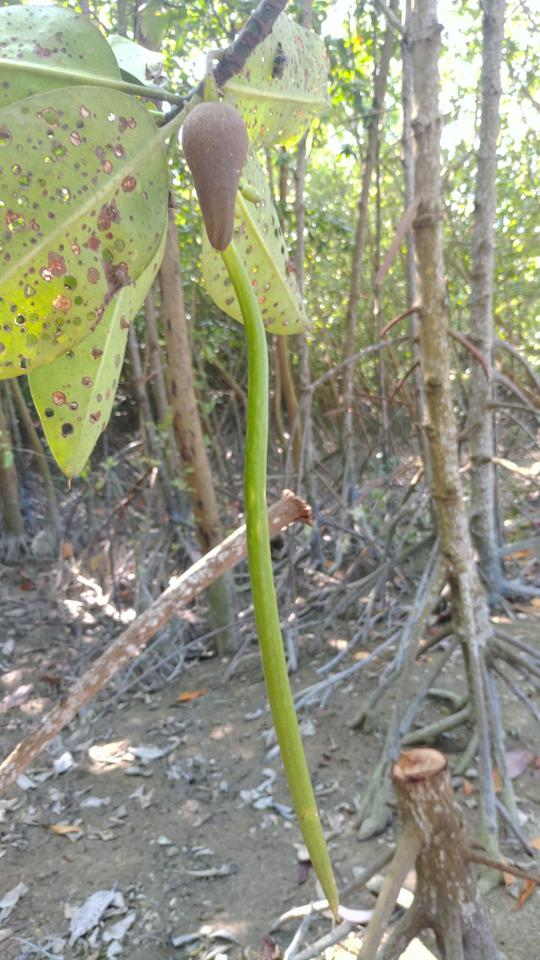mentah: (154, 78, 365, 932)
